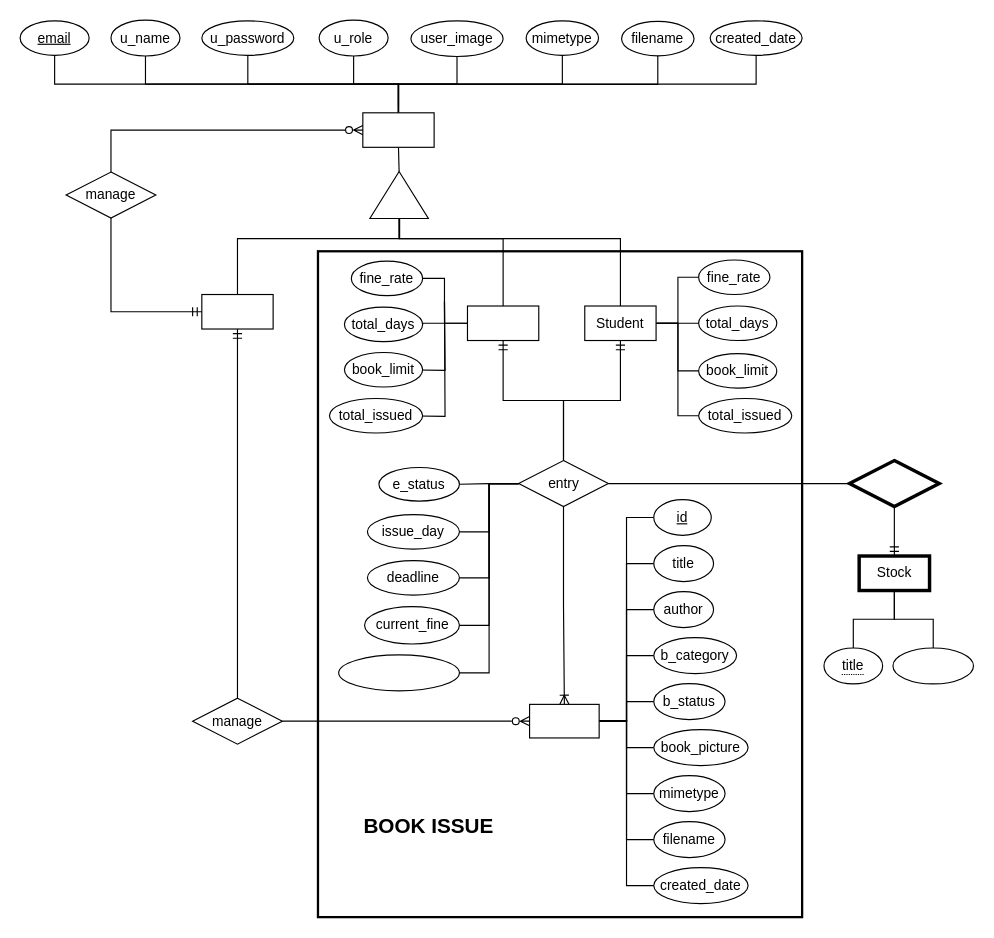
The diagram is 994 pixels wide and 938 high, and some of its shapes have lost their labels. The box of each missing label's shape, as (x1, y1, x2, y2) in pixels:
accumulate_day: (338, 654, 459, 691)
Admin: (201, 293, 273, 329)
Book: (528, 703, 599, 738)
ISA: (369, 170, 428, 218)
modify: (847, 458, 940, 508)
num_stock: (892, 647, 973, 684)
Teacher: (466, 305, 539, 341)
User: (362, 112, 434, 147)
